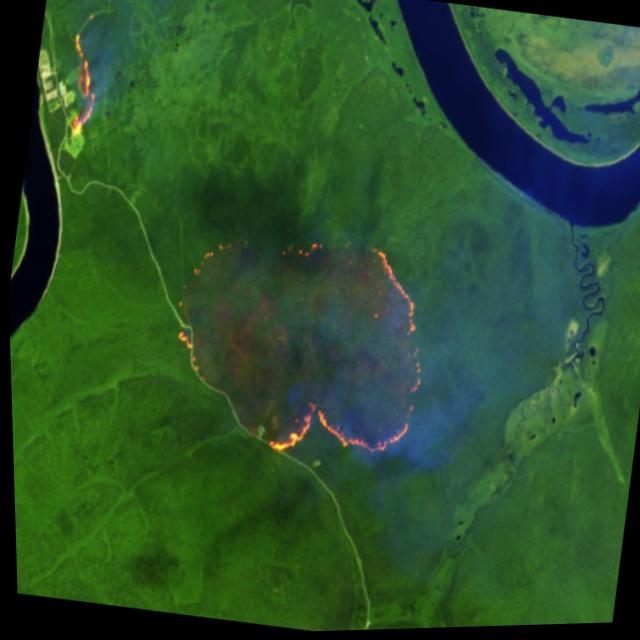fire: (259, 232, 443, 484), (54, 6, 115, 144)
